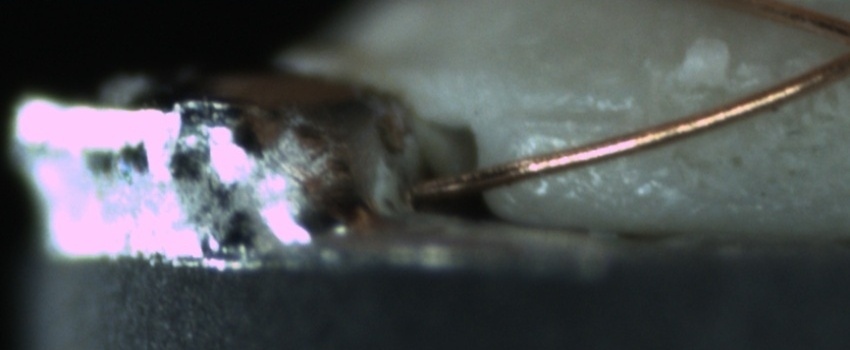DL: (509, 85, 636, 148)
